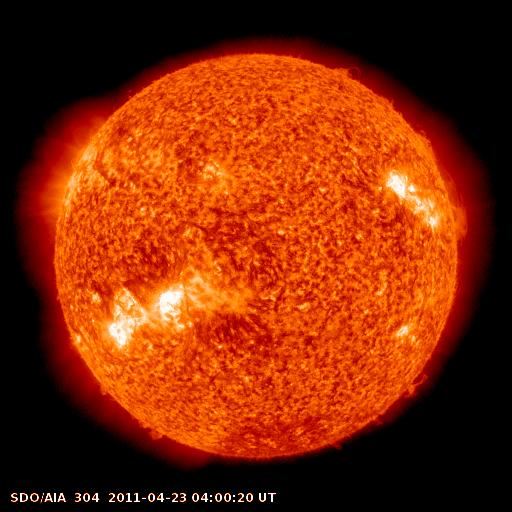prominence: (412, 129, 479, 242), (131, 411, 176, 447), (395, 366, 433, 408), (327, 55, 367, 87), (93, 372, 122, 408)
